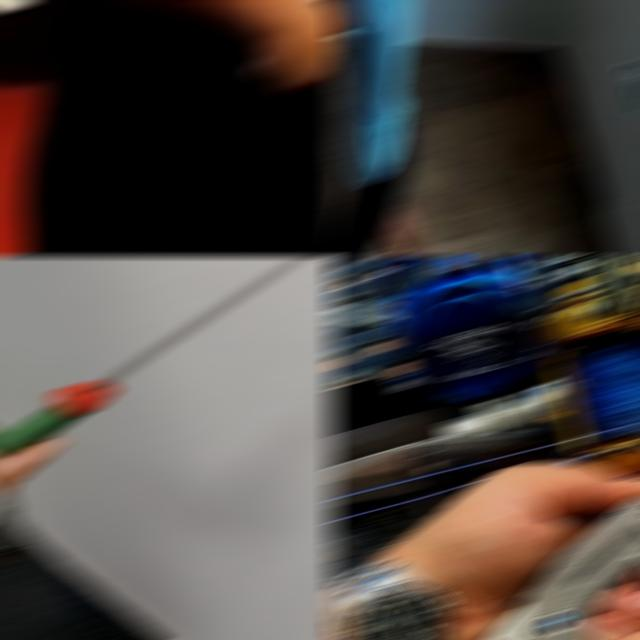Knife: (0, 257, 315, 456)
Knife_Handle: (254, 1, 337, 84)
